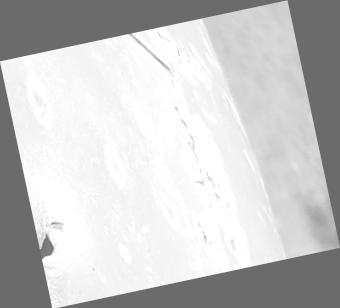crack: (0, 1, 339, 308)
